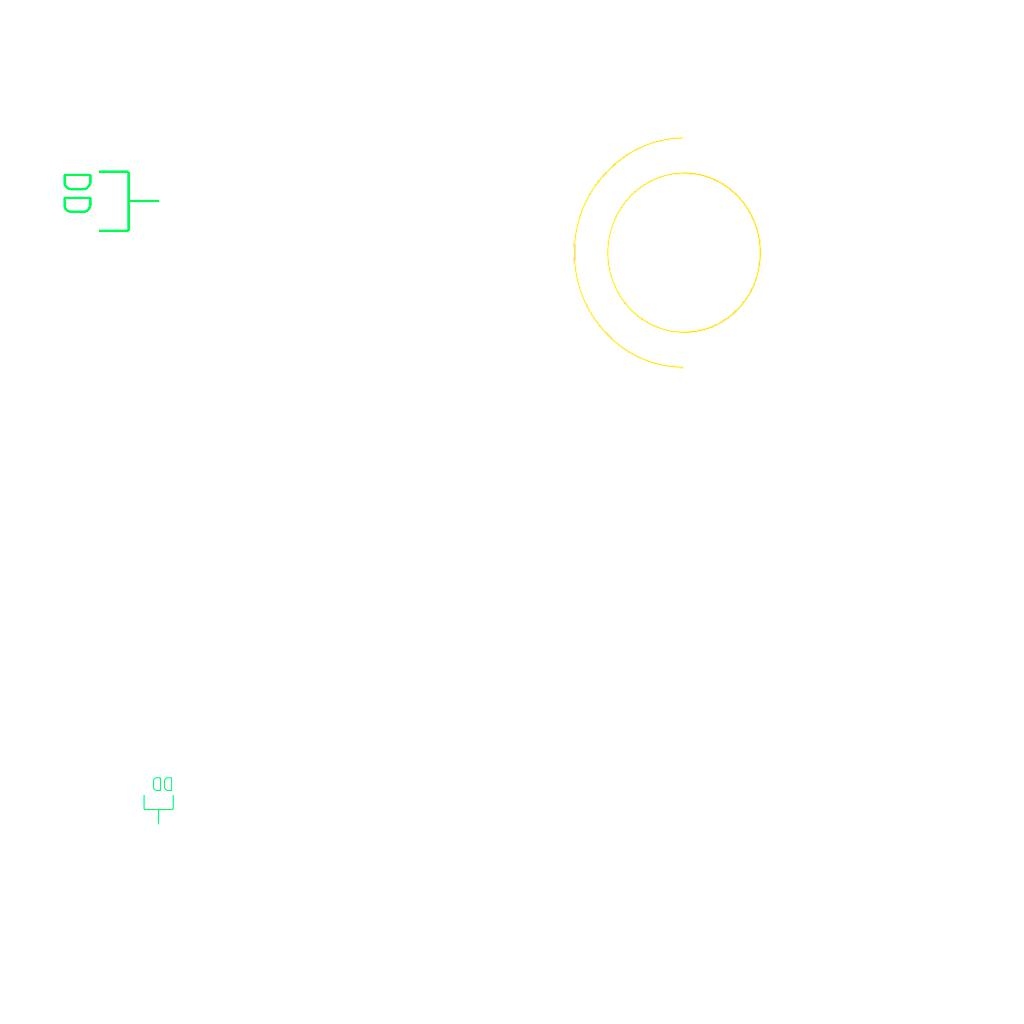Datenanschluss_zweifach: (59, 166, 162, 235), (142, 775, 176, 826)
Scheinwerfer_fuer_Alarmbeleuchtung: (562, 127, 787, 391), (319, 359, 451, 471)
